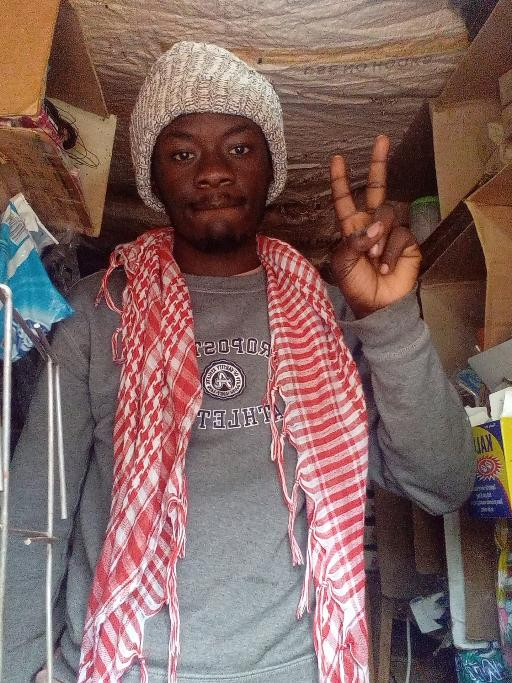peace: (325, 132, 423, 311)
